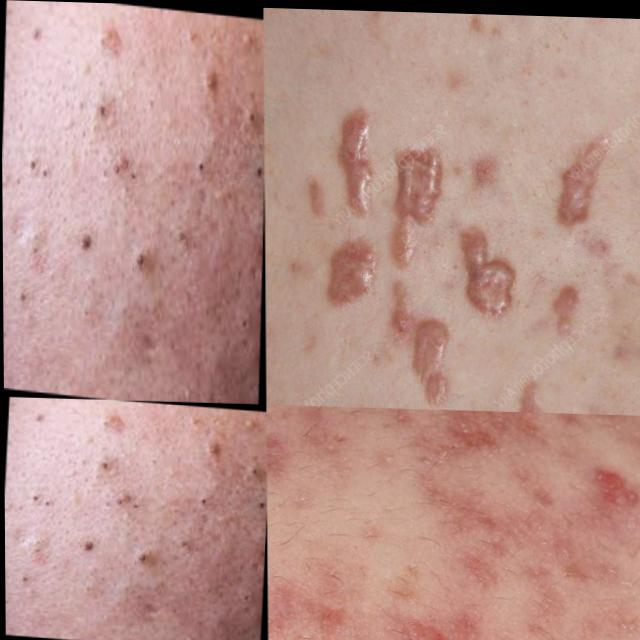6: (384, 137, 448, 272), (548, 115, 616, 234), (451, 219, 519, 318), (331, 104, 381, 221), (382, 595, 489, 640), (317, 234, 380, 309), (407, 313, 455, 407)
blackheads: (420, 407, 547, 478), (418, 481, 510, 554), (573, 461, 640, 521)
dark spot: (176, 142, 231, 184), (24, 143, 63, 197), (124, 230, 154, 297), (100, 148, 146, 189), (87, 89, 129, 133), (231, 299, 255, 361), (178, 485, 233, 511), (26, 485, 65, 518), (126, 539, 156, 580), (102, 488, 147, 514), (89, 452, 131, 479), (243, 98, 263, 144), (233, 582, 256, 620), (175, 221, 193, 265), (245, 459, 265, 487), (177, 534, 194, 561)
